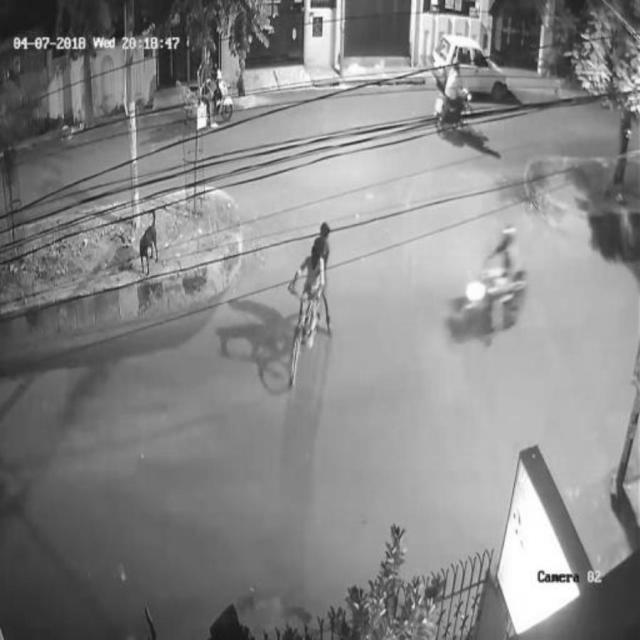vehicle: (452, 215, 534, 343), (282, 215, 333, 381), (433, 28, 507, 101), (185, 49, 233, 130), (438, 66, 475, 136)
